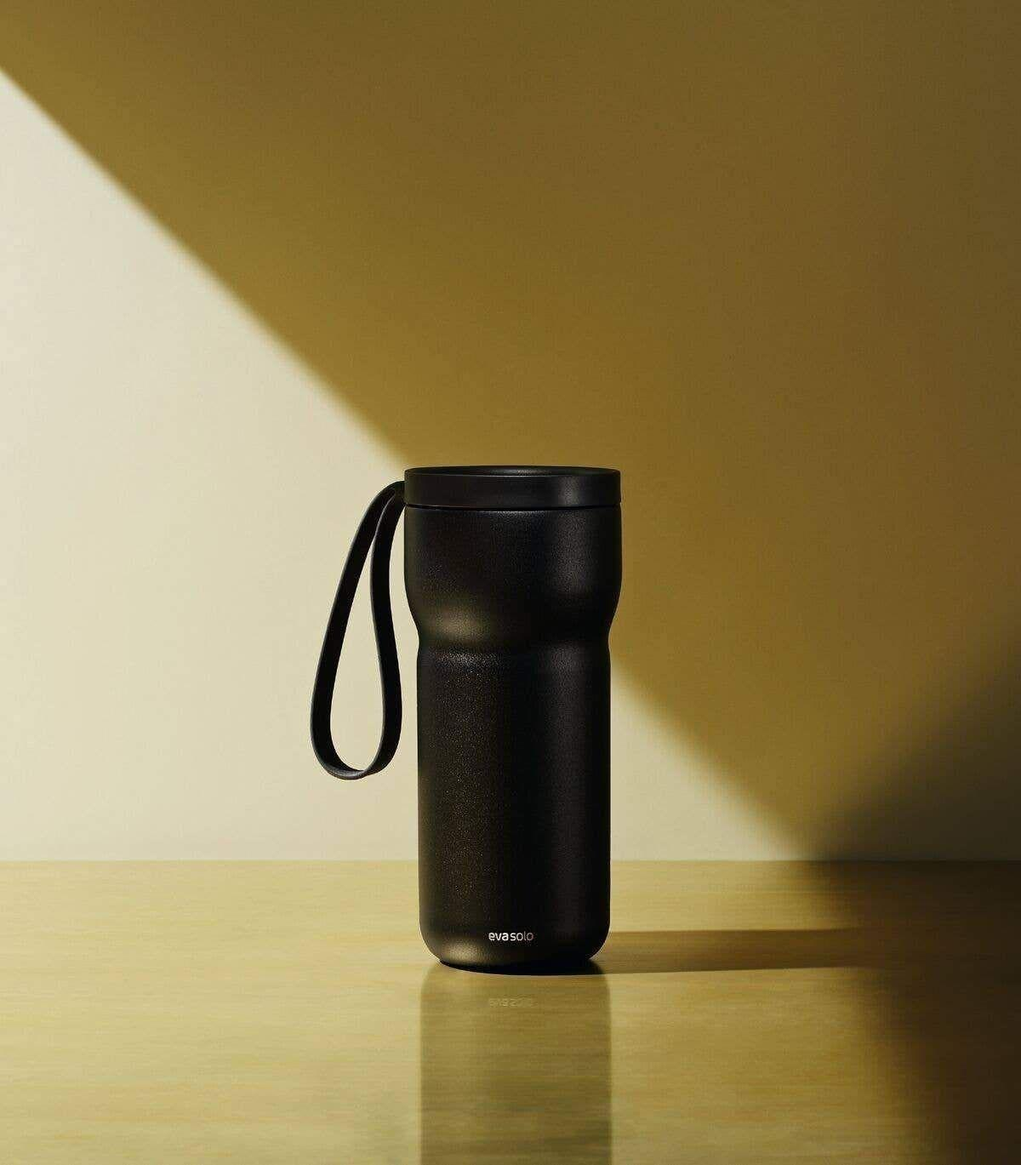gym bottle: (311, 455, 630, 976)
